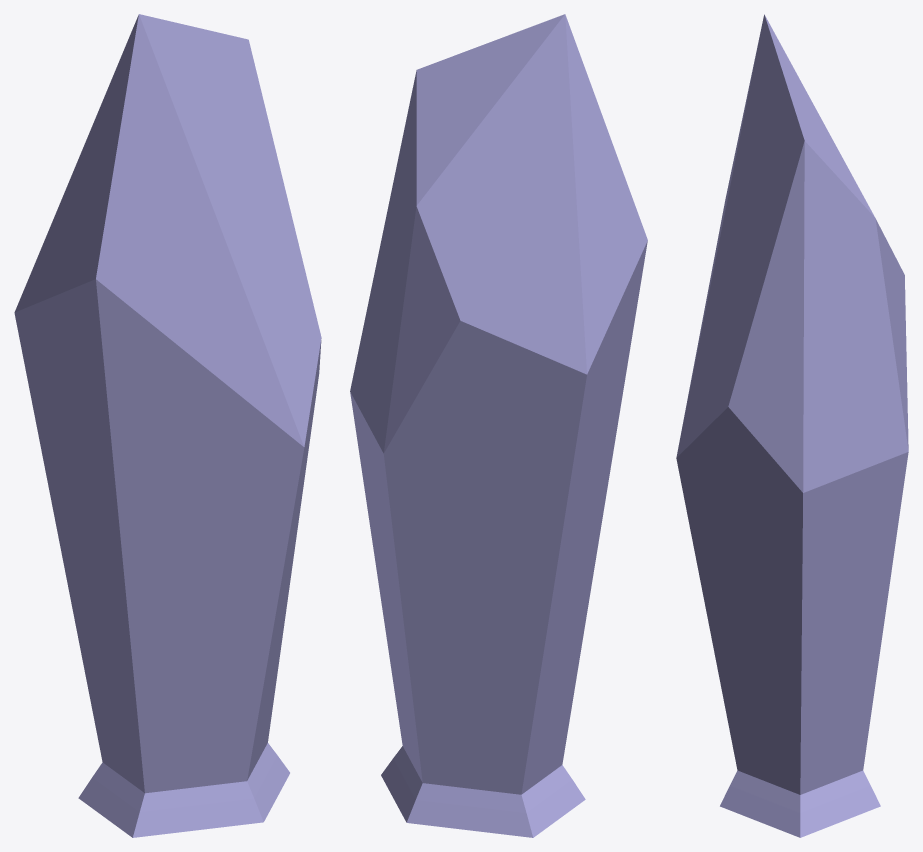
File: Crystal_1.fbx
3 renders of one model, left to right at view 1: azimuth 30°, elevation 25°; view 2: azimuth 150°, elevation 25°; view 3: azimuth 270°, elevation 25°, orthographic. The views are drawn at different scales.
Parts seen in each view (by area): view 1: Icosphere; view 2: Icosphere; view 3: Icosphere.
Part boxes in pixels (box(x1,y1,x2,y2)): Icosphere: box(14, 14, 321, 837); Icosphere: box(350, 14, 647, 837); Icosphere: box(676, 14, 908, 837).
Bounding box in the file's own units: 91.12 × 258 × 72.68.
